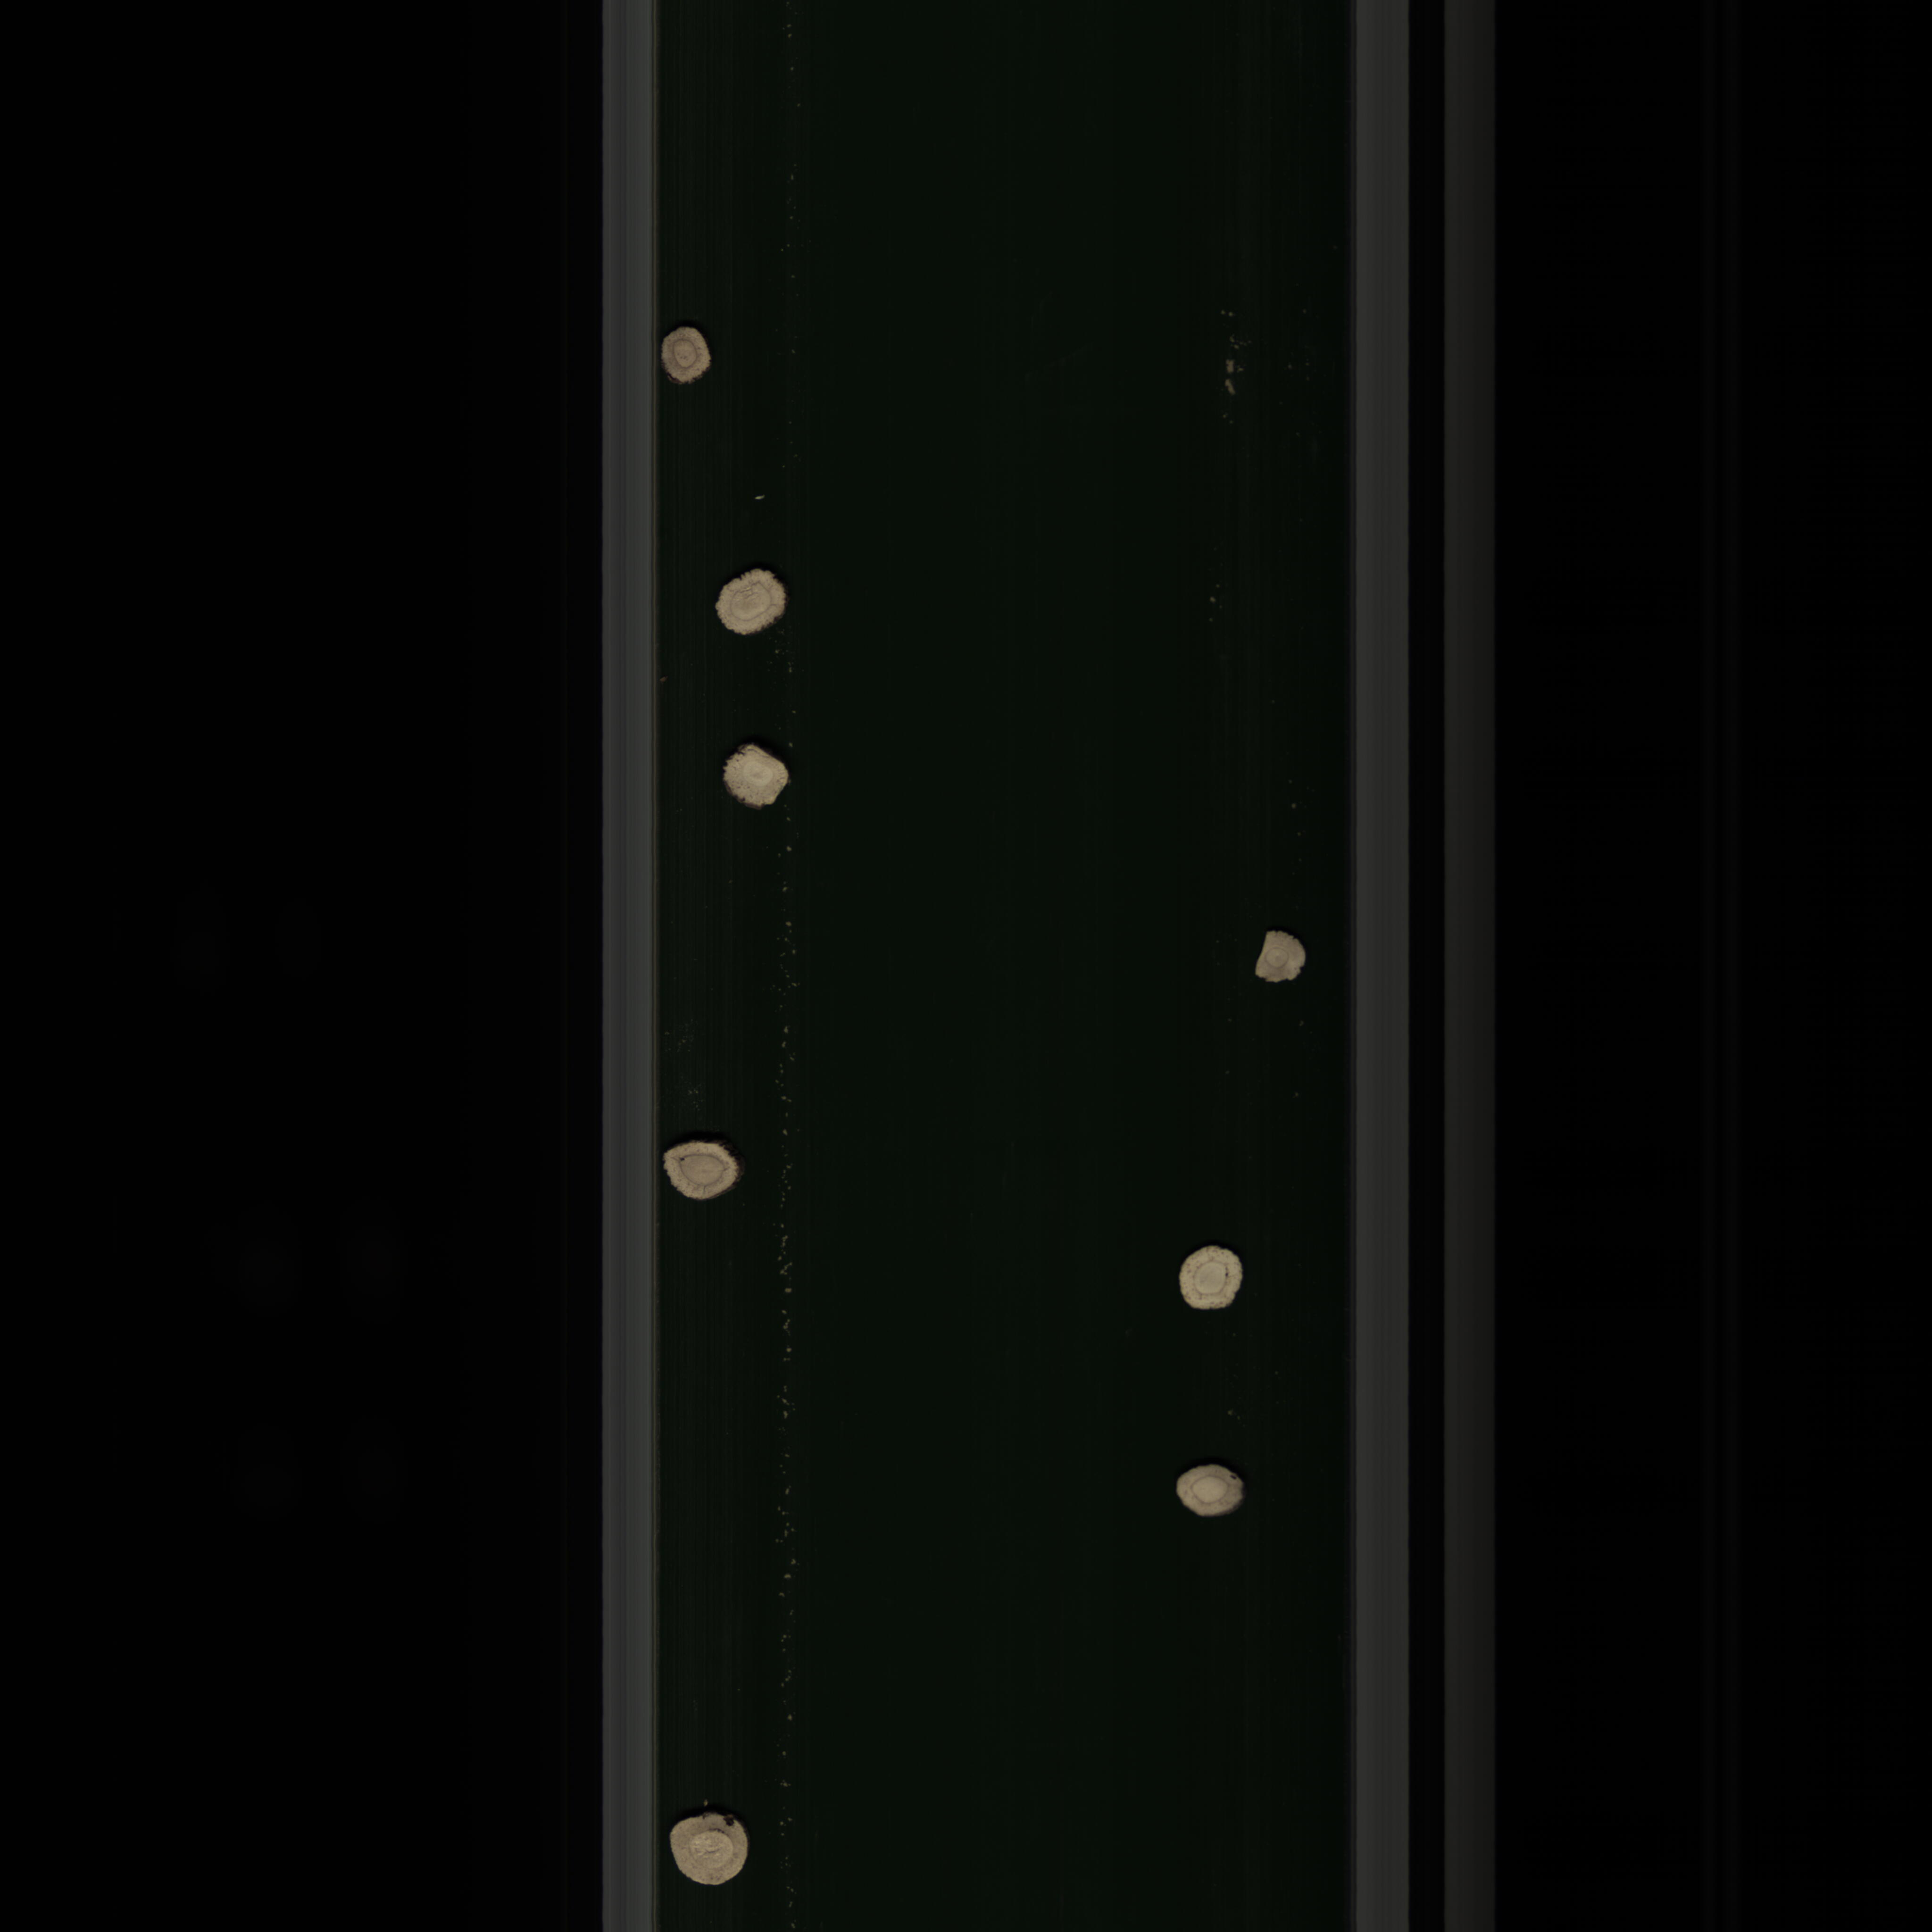debris: (1247, 929, 1315, 984)
moldy: (658, 317, 720, 400)
